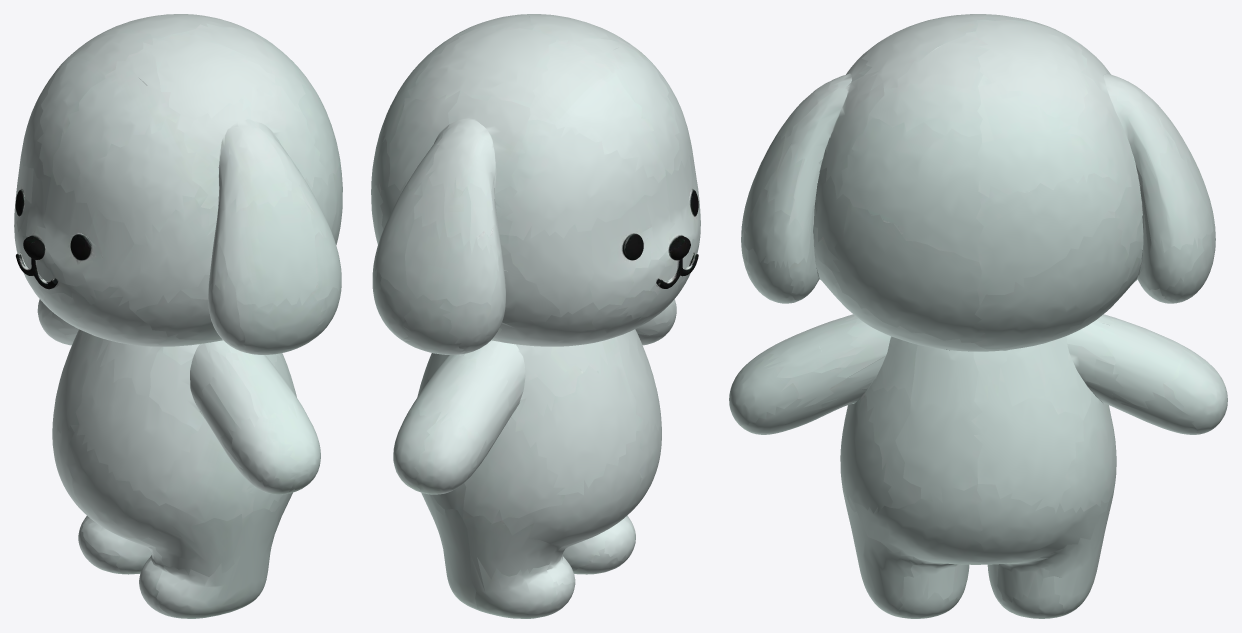
File: siubak.glb
3 renders of one model, left to right at view 1: azimuth 30°, elevation 25°; view 2: azimuth 150°, elevation 25°; view 3: azimuth 270°, elevation 25°, orthographic. The views are drawn at different scales.
Parts seen in each view (by area): view 1: output_unwrapped; view 2: output_unwrapped; view 3: output_unwrapped.
Part boxes in pixels (box(x1,y1,x2,y2)): output_unwrapped: box(14, 14, 342, 618); output_unwrapped: box(371, 14, 700, 618); output_unwrapped: box(729, 14, 1227, 618).
Bounding box in the file's own units: 1.05 × 1.9 × 1.5.
1 material, 1 textured.
